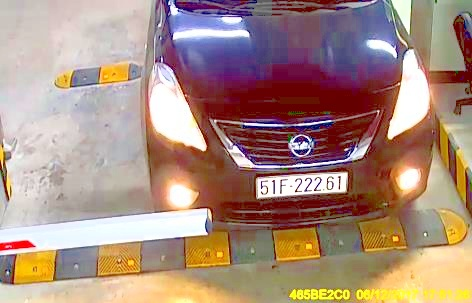plate: (255, 171, 350, 202)
